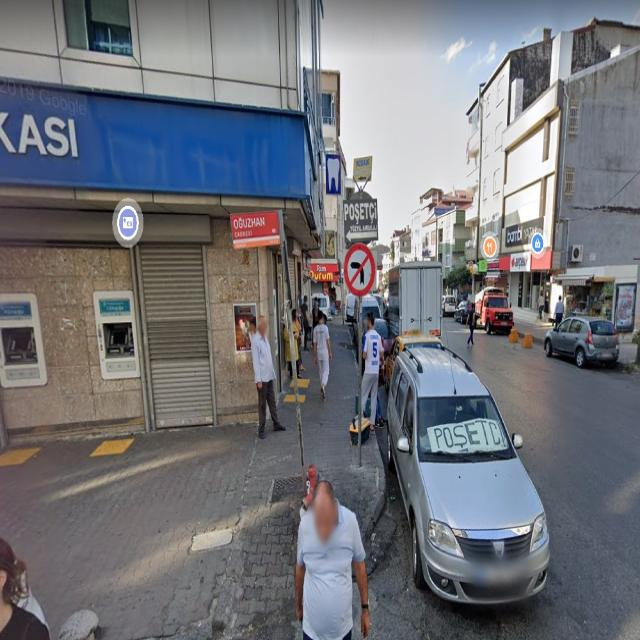soladonulmez: (342, 242, 376, 296)
